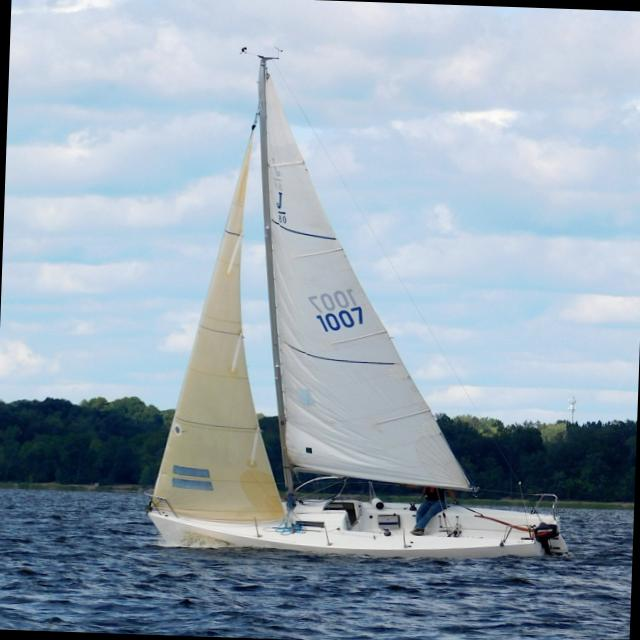boat: (143, 37, 596, 584)
